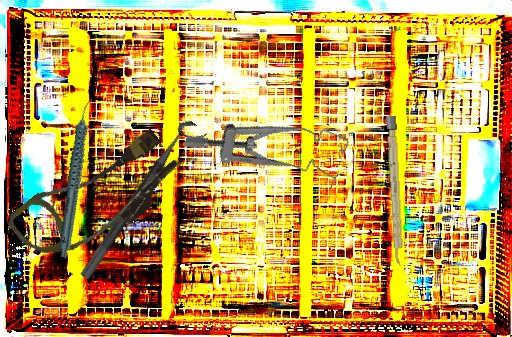Cannula: (4, 112, 189, 284)
Fixation Ring: (79, 116, 208, 290)
Handpiece: (27, 97, 126, 259)
Scalpel Handle: (386, 115, 404, 267)
Speculum: (183, 84, 351, 203)
